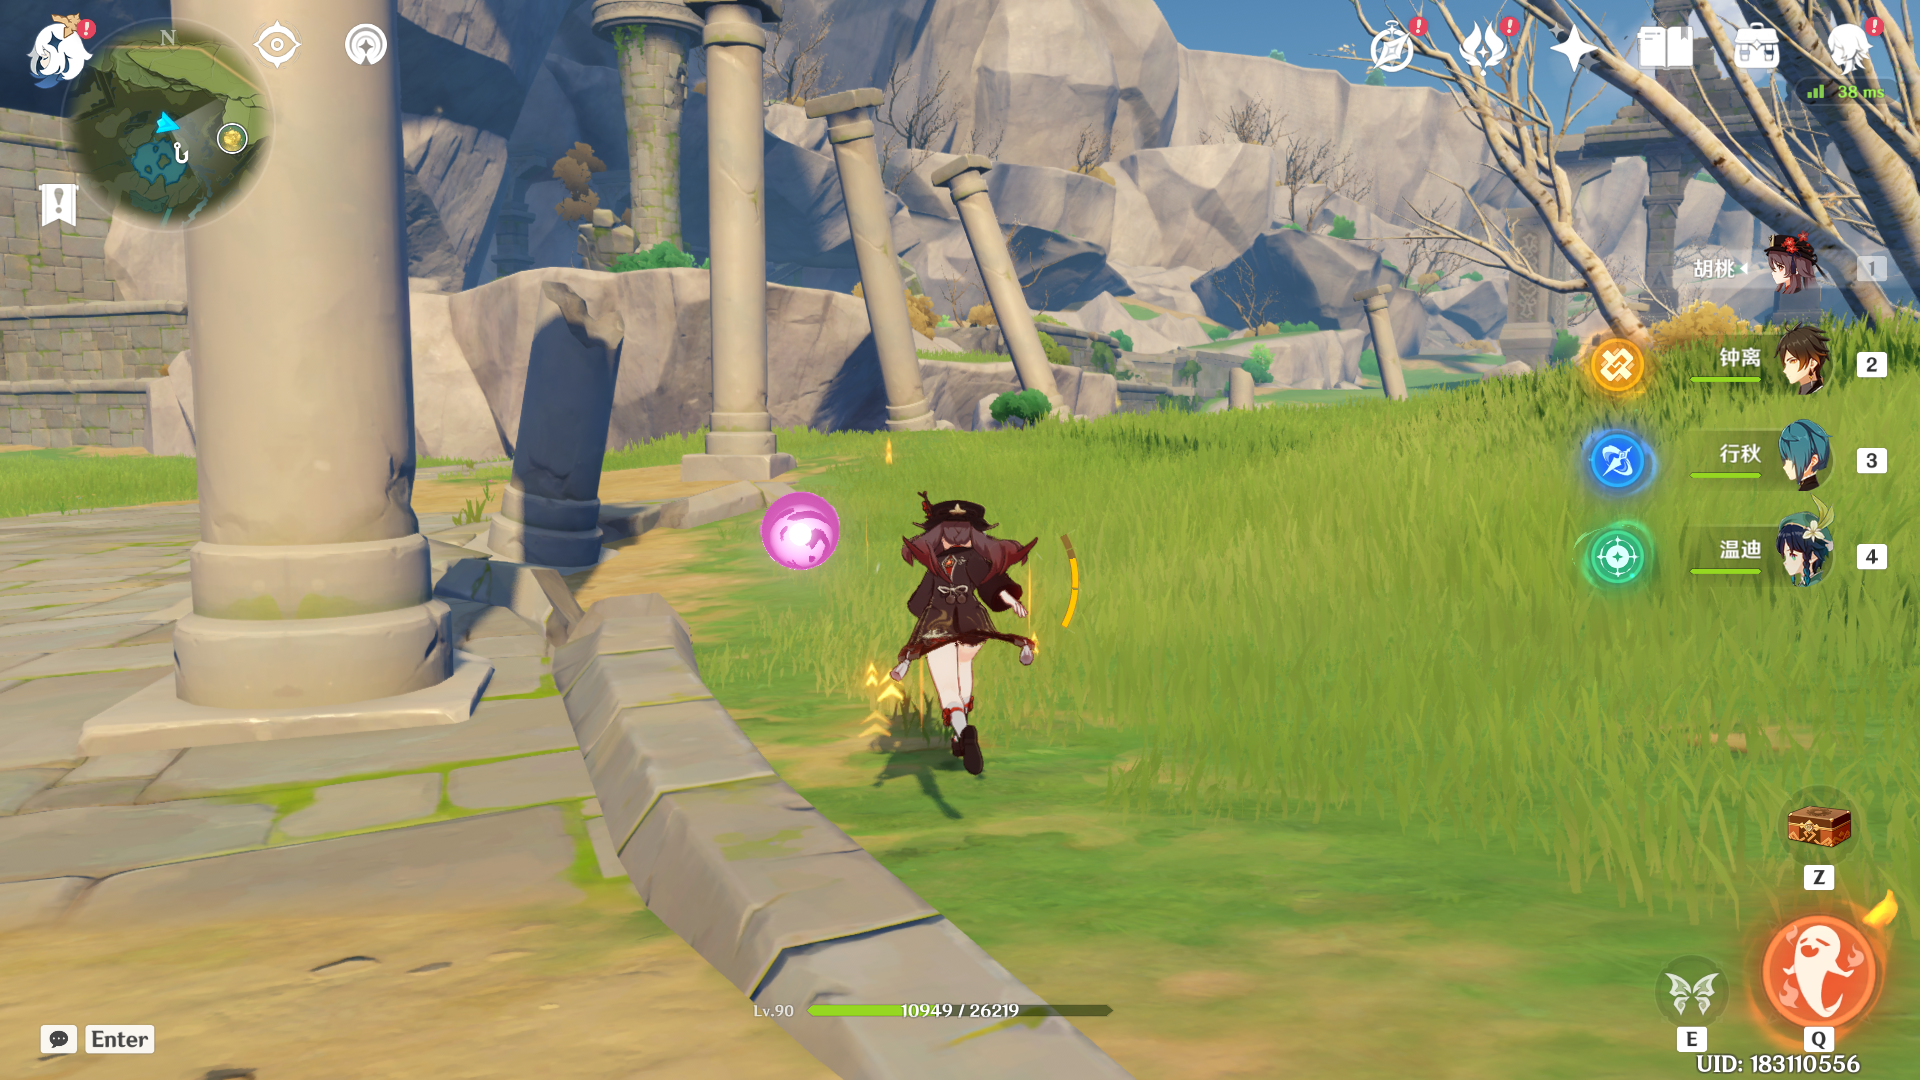character: (845, 448, 1087, 796)
